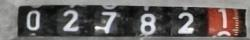digits: (93, 11, 118, 33), (61, 8, 80, 31), (177, 11, 195, 34), (140, 12, 156, 34), (26, 9, 40, 30), (218, 8, 227, 27)
